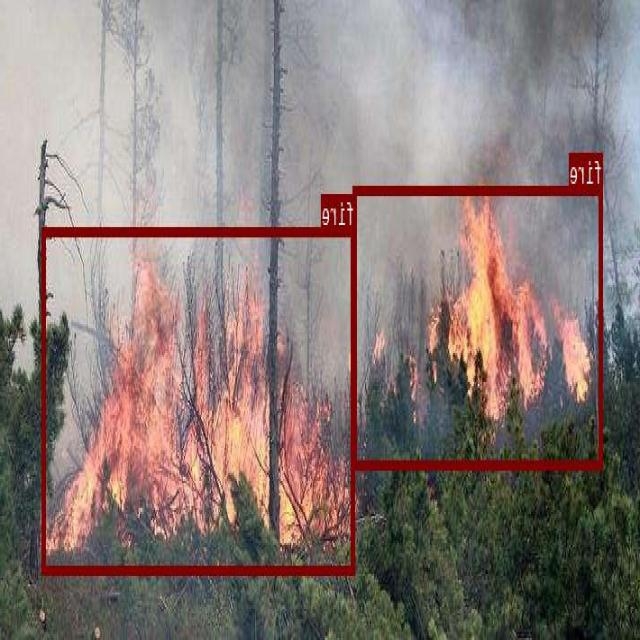fire: (42, 226, 356, 572), (354, 185, 603, 467)
